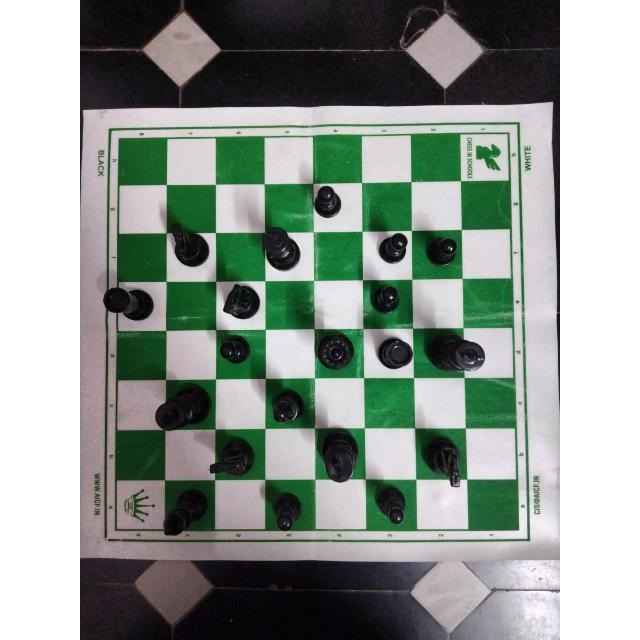black-bishop: (158, 486, 213, 544), (266, 386, 306, 428)
black-king: (150, 383, 214, 435), (423, 329, 489, 376), (322, 425, 360, 485), (260, 222, 302, 274)
black-knight: (416, 427, 468, 495), (208, 434, 260, 481), (165, 221, 213, 269), (218, 281, 266, 323)
black-pawn: (369, 482, 413, 528), (267, 490, 310, 534), (421, 233, 463, 273), (214, 328, 256, 367), (376, 230, 412, 270), (366, 282, 406, 315), (310, 182, 343, 221)
black-queen: (310, 329, 359, 374)
black-rook: (97, 285, 161, 324), (372, 334, 418, 374)
